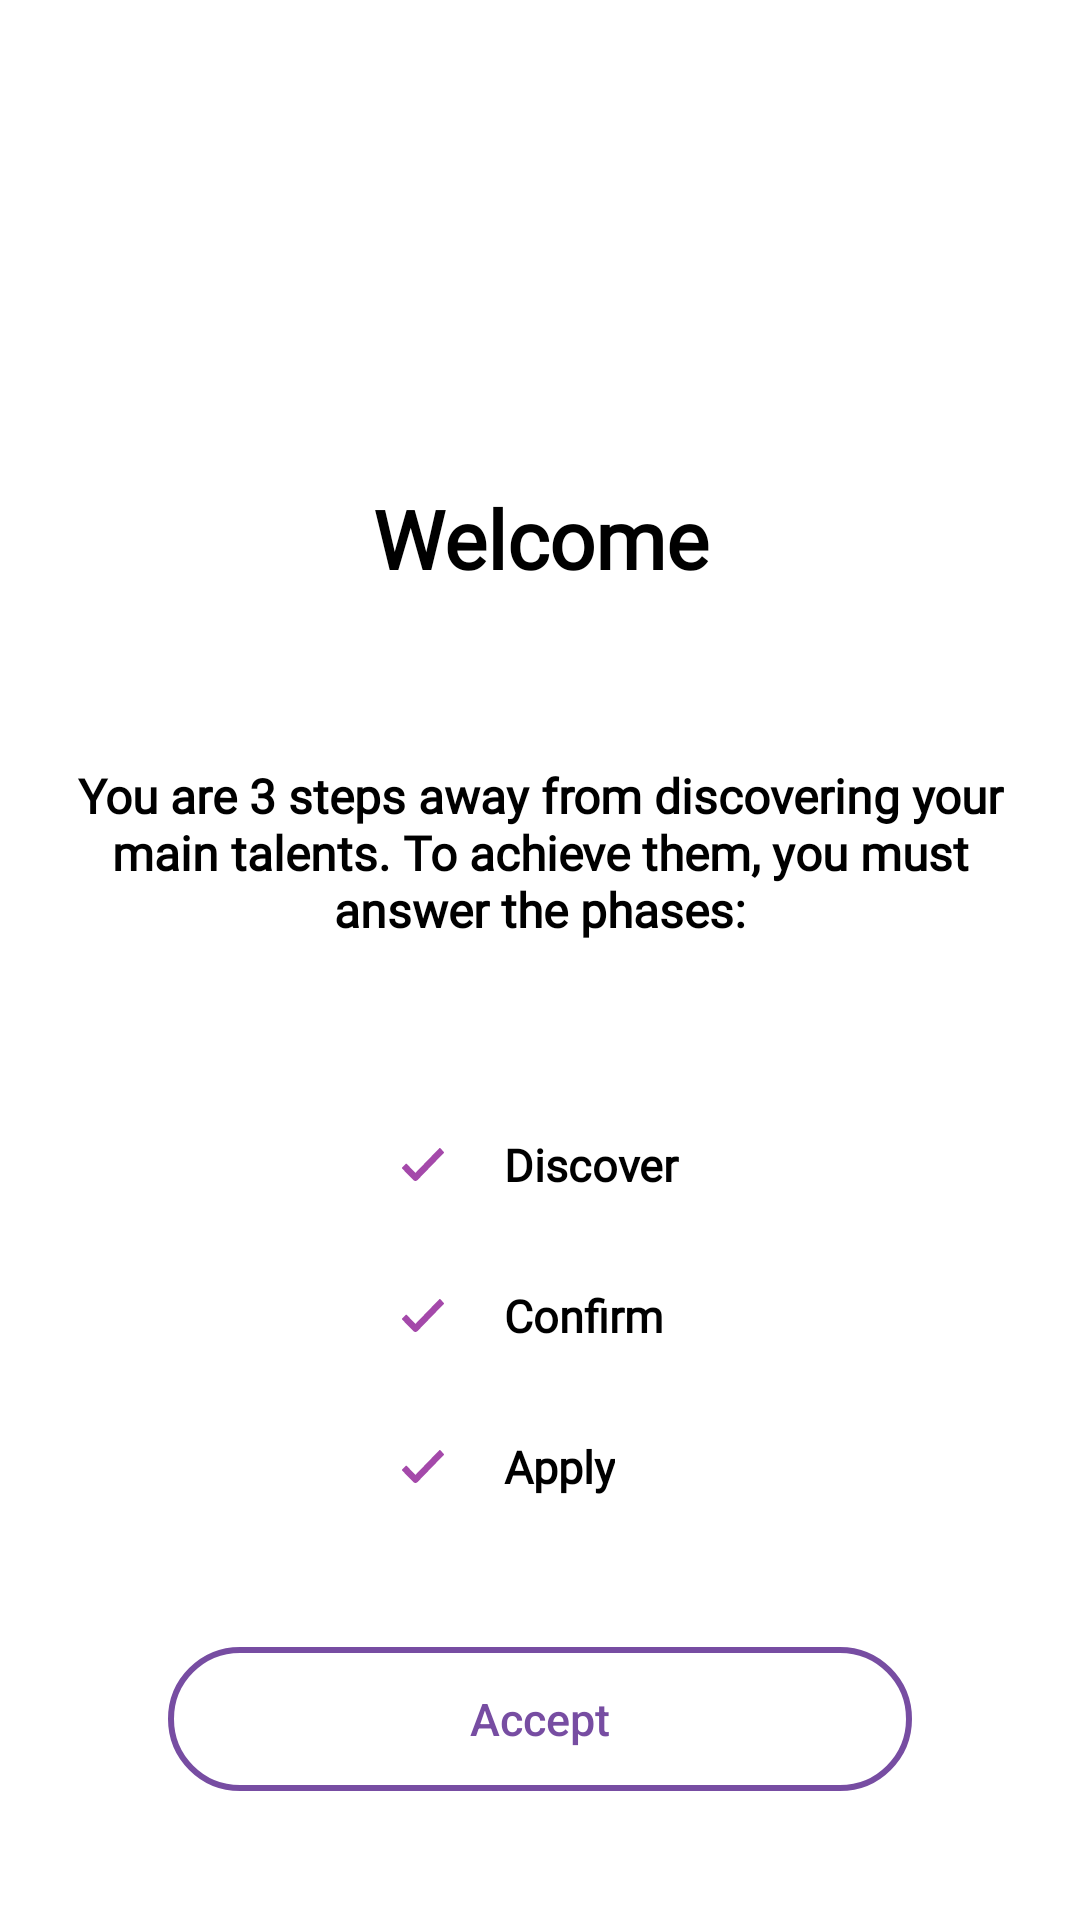

Named icons in this screenshot (1080 × 1920) and their bounding boxes, bbox(x1, y1, x2, y2):
ionic checkmark: bbox(402, 1148, 444, 1181), bbox(402, 1299, 444, 1332), bbox(402, 1450, 444, 1483)
